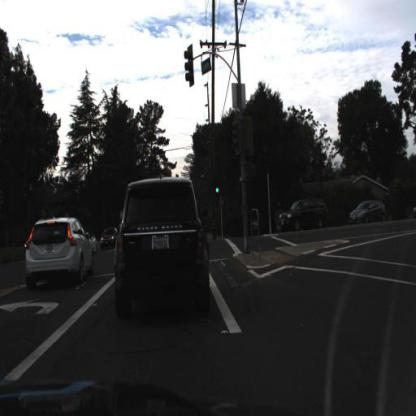car: (113, 178, 212, 318), (25, 213, 96, 289), (280, 196, 331, 233), (350, 198, 389, 226), (100, 223, 119, 250)
trafficLight-Green: (214, 173, 223, 198)
